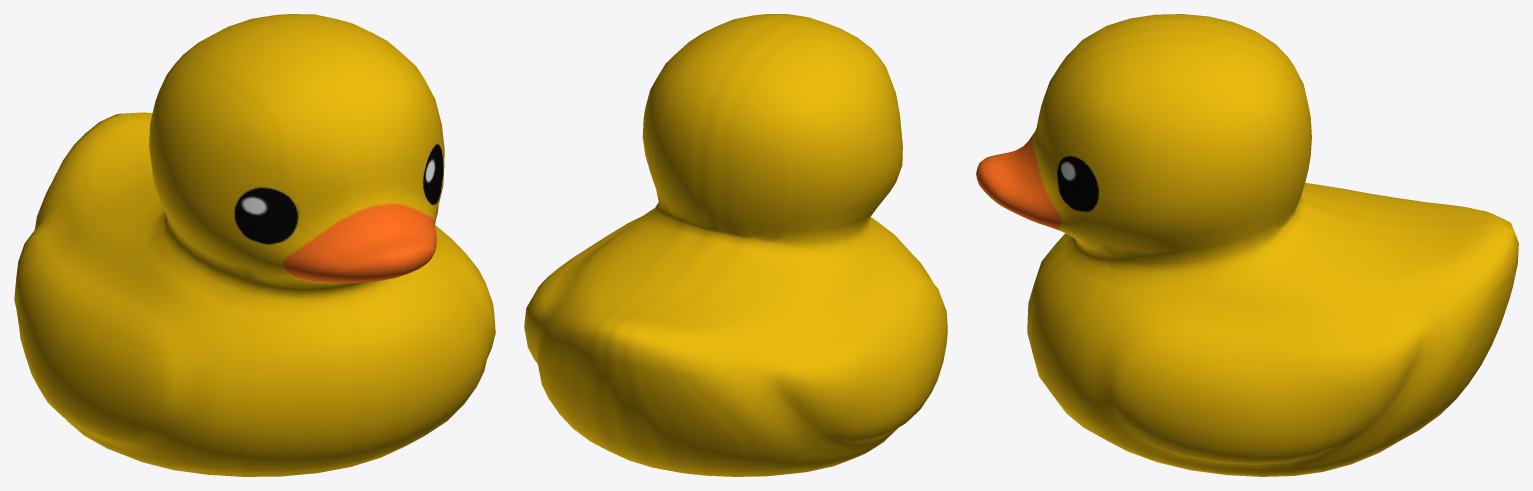
3 renders of one model, left to right at view 1: azimuth 30°, elevation 25°; view 2: azimuth 150°, elevation 25°; view 3: azimuth 270°, elevation 25°, orthographic. The views are drawn at different scales.
Parts seen in each view (by area): view 1: duck; view 2: duck; view 3: duck.
Boxes of the visible parts, x1,y1,x2,y2 form: duck: [14, 14, 495, 476]; duck: [524, 14, 947, 476]; duck: [976, 14, 1518, 476].
Size of the model in its own units: 1.06 by 1.03 by 1.32.
Materials: 2 (1 with a texture image).
